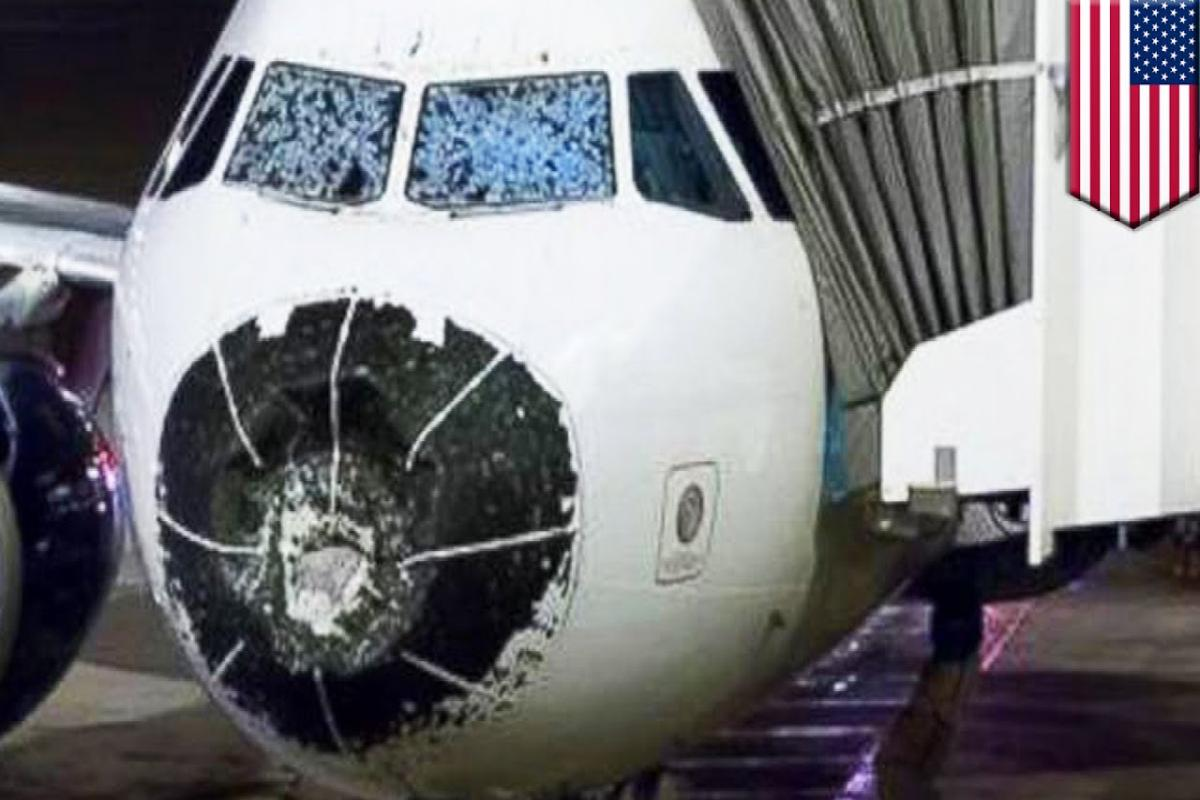Fuselage_damage: (131, 276, 596, 779), (213, 28, 631, 253)
